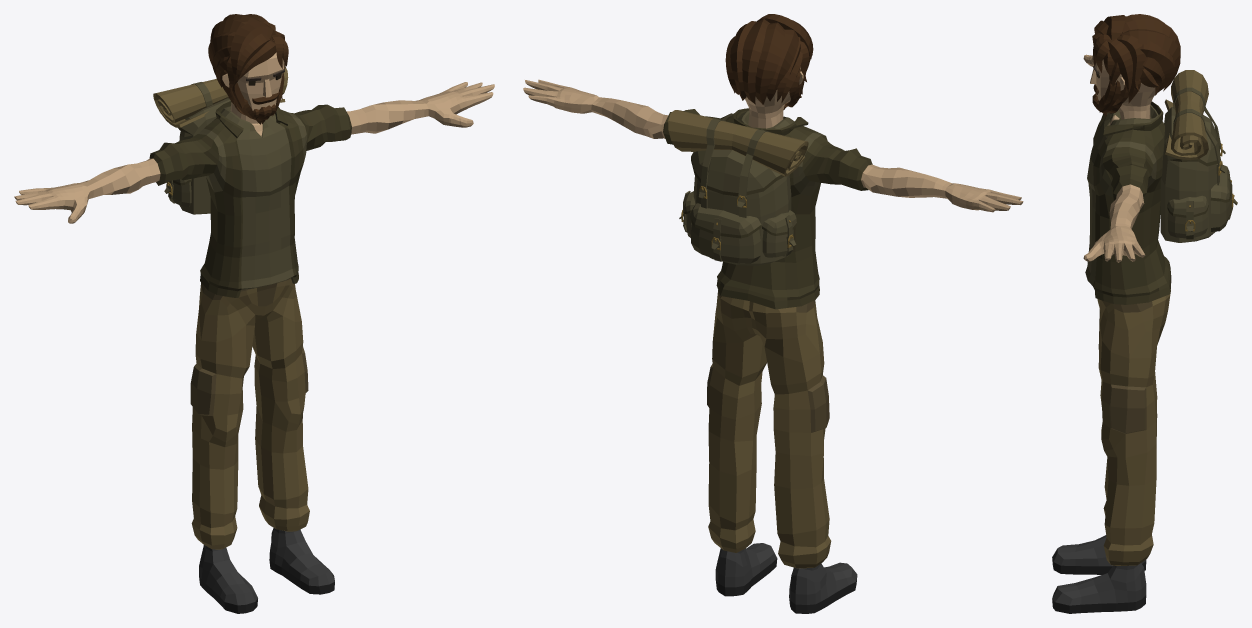
File: adventurer.glb
3 views of the same model, side by side, from view 1: azimuth 30°, elevation 25°; view 2: azimuth 150°, elevation 25°; view 3: azimuth 270°, elevation 25° (orthographic). The views are drawn at different scales.
Parts seen in each view (by area): view 1: Adventurer_Legs_d96652, Adventurer_Body_b056c3, Adventurer_Body_9c6e04, Adventurer_Body_787ac6, Adventurer_Head_45be67, Adventurer_Feet_08a82e, Backpack_6c9eaf, Backpack_bd1ebb, Adventurer_Legs_c974c0, Adventurer_Head_1ada2b, Adventurer_Feet_0f475c; view 2: Adventurer_Legs_d96652, Backpack_6c9eaf, Adventurer_Body_b056c3, Adventurer_Body_787ac6, Adventurer_Head_45be67, Backpack_bd1ebb, Adventurer_Feet_08a82e, Adventurer_Legs_c974c0, Adventurer_Feet_0f475c, Adventurer_Head_1ada2b, Adventurer_Body_9c6e04, Backpack_8131dd; view 3: Adventurer_Legs_d96652, Adventurer_Body_b056c3, Backpack_6c9eaf, Adventurer_Head_45be67, Adventurer_Feet_08a82e, Backpack_bd1ebb, Adventurer_Body_787ac6, Adventurer_Body_9c6e04, Adventurer_Legs_c974c0, Adventurer_Feet_0f475c, Adventurer_Head_1ada2b, Backpack_8131dd.
Boxes of the visible parts, <box> form: Adventurer_Legs_d96652: <box>191,279,309,549</box>; Adventurer_Body_b056c3: <box>149,101,351,297</box>; Adventurer_Body_9c6e04: <box>198,106,307,289</box>; Adventurer_Body_787ac6: <box>14,82,494,223</box>; Adventurer_Head_45be67: <box>208,14,288,124</box>; Adventurer_Feet_08a82e: <box>199,528,334,605</box>; Backpack_6c9eaf: <box>164,82,230,214</box>; Backpack_bd1ebb: <box>153,67,288,127</box>; Adventurer_Legs_c974c0: <box>190,278,308,416</box>; Adventurer_Head_1ada2b: <box>222,52,284,123</box>; Adventurer_Feet_0f475c: <box>199,560,334,613</box>; Adventurer_Legs_d96652: <box>708,290,831,568</box>; Backpack_6c9eaf: <box>679,118,796,265</box>; Adventurer_Body_b056c3: <box>663,108,872,309</box>; Adventurer_Body_787ac6: <box>523,79,1023,212</box>; Adventurer_Head_45be67: <box>725,14,813,109</box>; Backpack_bd1ebb: <box>668,110,808,176</box>; Adventurer_Feet_08a82e: <box>715,543,857,604</box>; Adventurer_Legs_c974c0: <box>707,300,829,432</box>; Adventurer_Feet_0f475c: <box>715,558,857,613</box>; Adventurer_Head_1ada2b: <box>745,67,803,128</box>; Adventurer_Body_9c6e04: <box>722,110,825,195</box>; Backpack_8131dd: <box>684,157,796,238</box>; Adventurer_Legs_d96652: <box>1097,289,1170,565</box>; Adventurer_Body_b056c3: <box>1093,101,1171,304</box>; Backpack_6c9eaf: <box>1160,87,1237,242</box>; Adventurer_Head_45be67: <box>1092,14,1180,116</box>; Adventurer_Feet_08a82e: <box>1052,535,1146,605</box>; Backpack_bd1ebb: <box>1164,70,1208,160</box>; Adventurer_Body_787ac6: <box>1083,54,1145,262</box>; Adventurer_Body_9c6e04: <box>1085,105,1158,285</box>; Adventurer_Legs_c974c0: <box>1109,301,1152,433</box>; Adventurer_Feet_0f475c: <box>1052,558,1146,613</box>; Adventurer_Head_1ada2b: <box>1090,55,1155,119</box>; Backpack_8131dd: <box>1167,146,1231,217</box>.
Bounding box in the file's own units: 1.62 × 1.8 × 0.5328.
